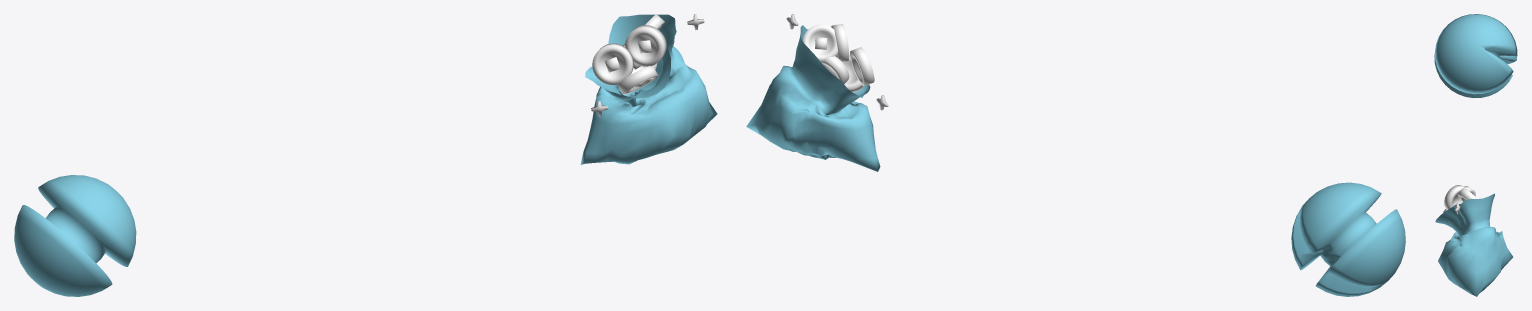
3 renders of one model, left to right at view 1: azimuth 30°, elevation 25°; view 2: azimuth 150°, elevation 25°; view 3: azimuth 270°, elevation 25°, orthographic. The views are drawn at different scales.
Visible parts, largest first — view 1: Sphere.018, Roundcube, Cylinder.004, Cylinder.002, Cylinder; view 2: Roundcube, Sphere.018, Cylinder.003, Cylinder.004, Cylinder.002, Cylinder.001; view 3: Sphere.018, Roundcube, Cylinder.002, Cylinder.003.
Boxes of the visible parts, box(x1,y1,x2,y2) form: Sphere.018: box(14, 175, 136, 296); Roundcube: box(580, 14, 717, 164); Cylinder.004: box(592, 43, 633, 84); Cylinder.002: box(625, 25, 666, 66); Cylinder: box(617, 65, 658, 94); Roundcube: box(746, 25, 880, 171); Sphere.018: box(1291, 182, 1405, 296); Cylinder.003: box(802, 24, 838, 62); Cylinder.004: box(850, 47, 874, 86); Cylinder.002: box(831, 24, 849, 61); Cylinder.001: box(821, 56, 849, 83); Sphere.018: box(1434, 14, 1517, 97); Roundcube: box(1435, 193, 1512, 296); Cylinder.002: box(1444, 185, 1468, 209); Cylinder.003: box(1457, 188, 1477, 201).
Size of the model in its own units: 33.76 by 6.52 by 5.06.
